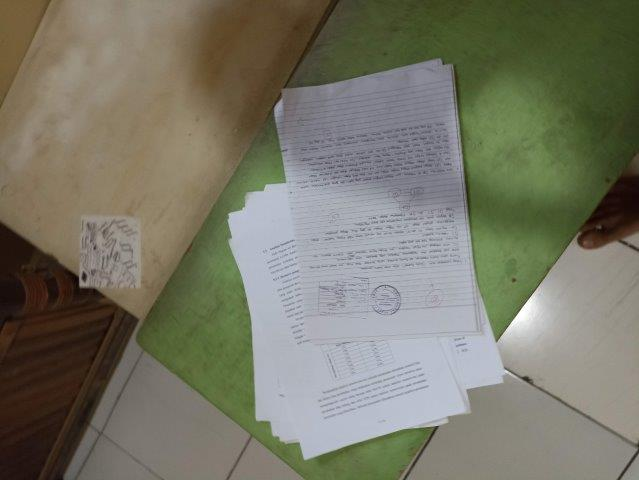kertas: (227, 58, 505, 460)
